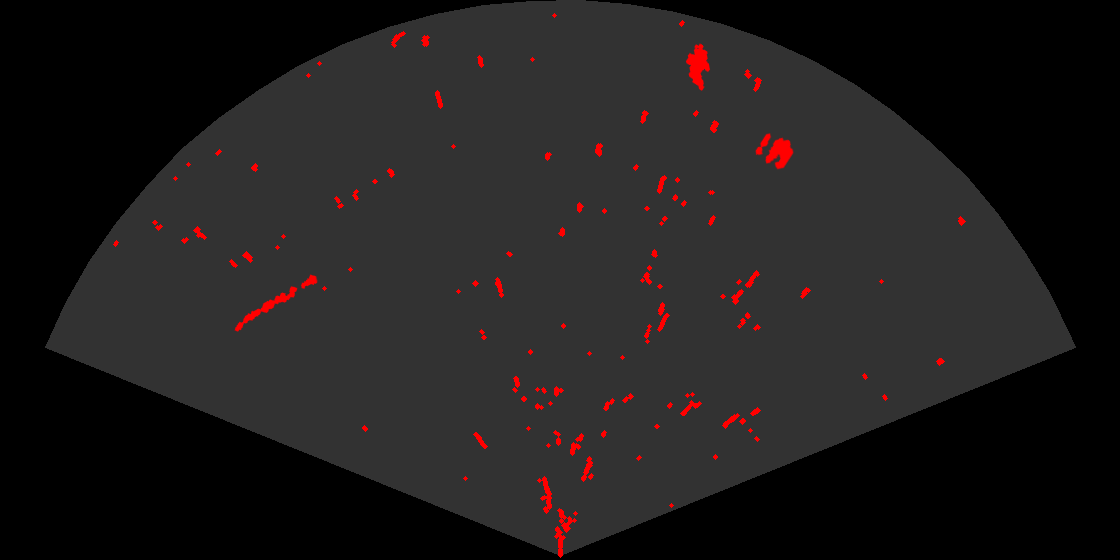AUV: (684, 42, 712, 92)
ball: (754, 131, 795, 171)
chain: (233, 273, 319, 333)
